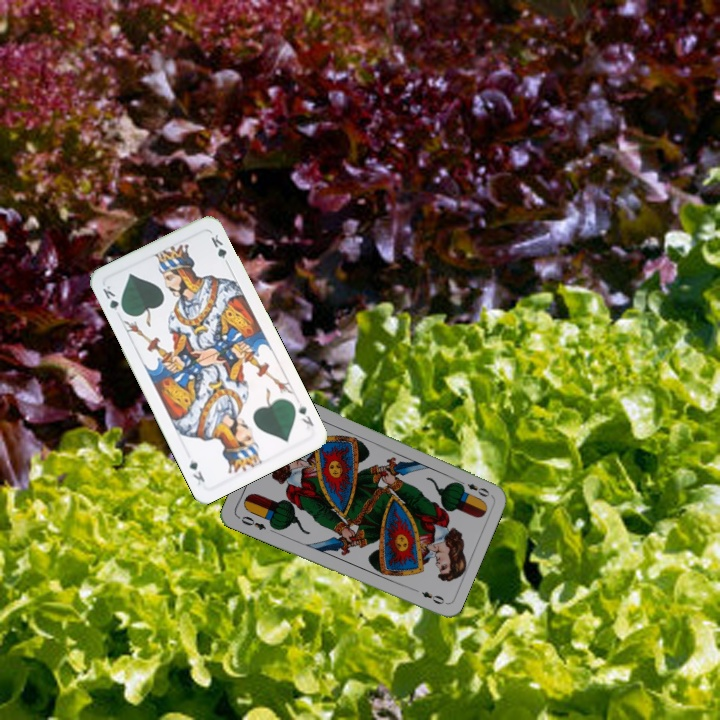EO: (454, 476, 492, 500), (237, 512, 269, 533)
GK: (98, 281, 128, 316), (294, 400, 316, 429)
